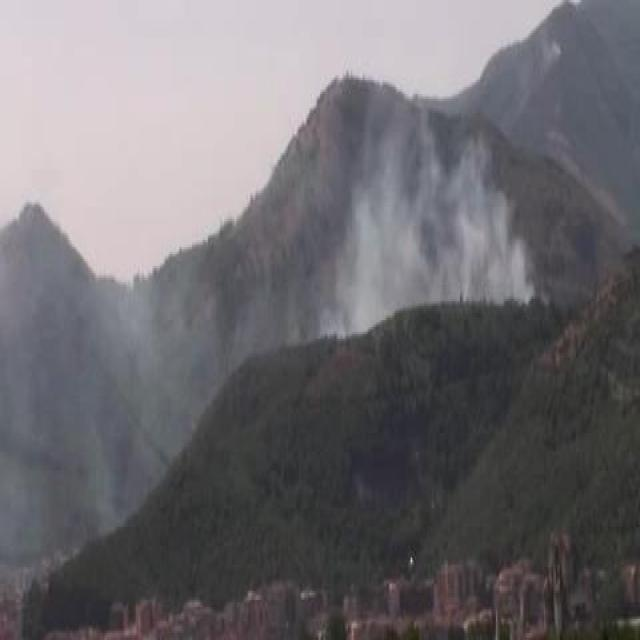Smoke: (313, 106, 535, 341)
